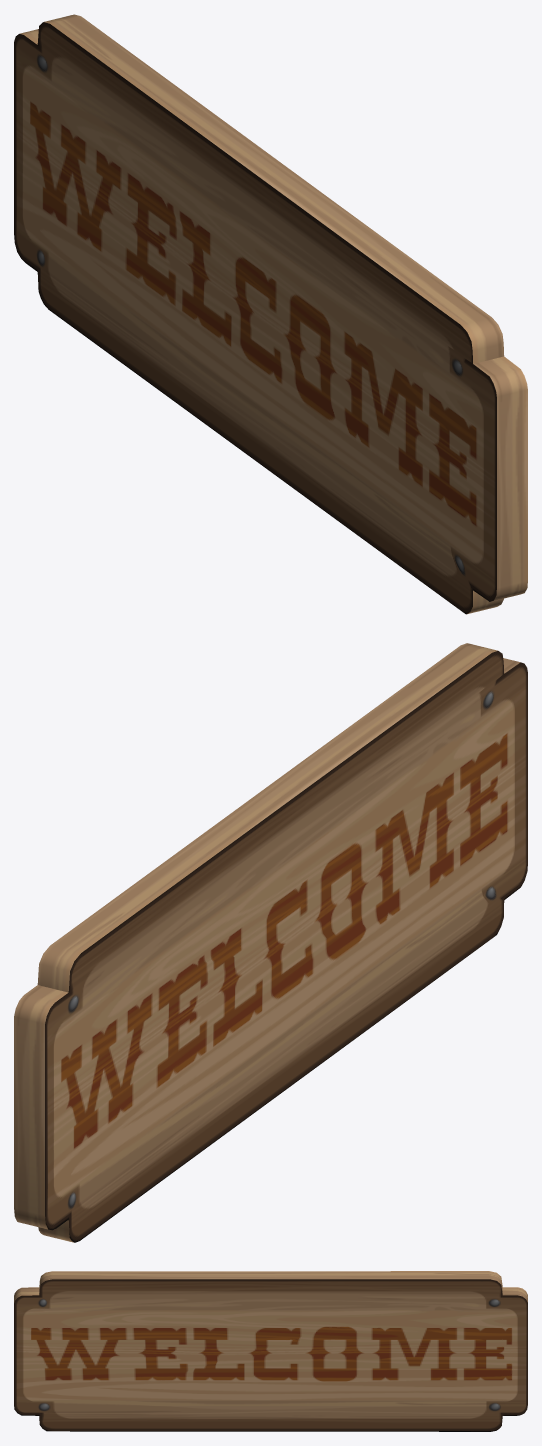
The model's file is Sign_Welcome_01.FBX.
3 views of the same model, one above another, from view 1: azimuth 30°, elevation 25°; view 2: azimuth 150°, elevation 25°; view 3: azimuth 270°, elevation 25° (orthographic). The views are drawn at different scales.
Visible parts, largest first — view 1: Sign_Welcome_01; view 2: Sign_Welcome_01; view 3: Sign_Welcome_01.
Part boxes in pixels (x1,y1,x2,y2): Sign_Welcome_01: [14, 14, 527, 614]; Sign_Welcome_01: [14, 643, 527, 1242]; Sign_Welcome_01: [14, 1271, 527, 1431].
Bounding box in the file's own units: 0.2256 × 1.99 × 6.08.
